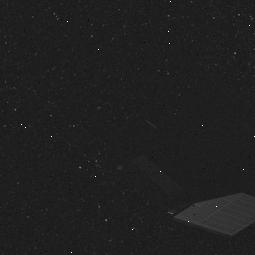cheops: (109, 106, 255, 236)
